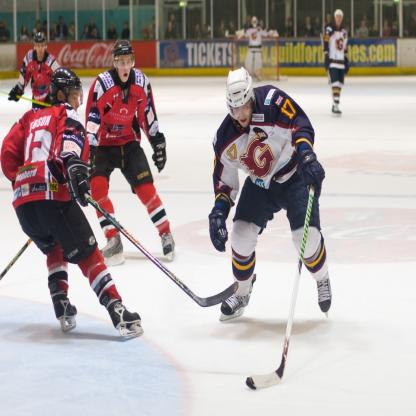Helmet: (226, 66, 255, 114), (49, 67, 83, 104), (111, 39, 135, 70), (33, 32, 47, 53), (333, 9, 343, 21)
